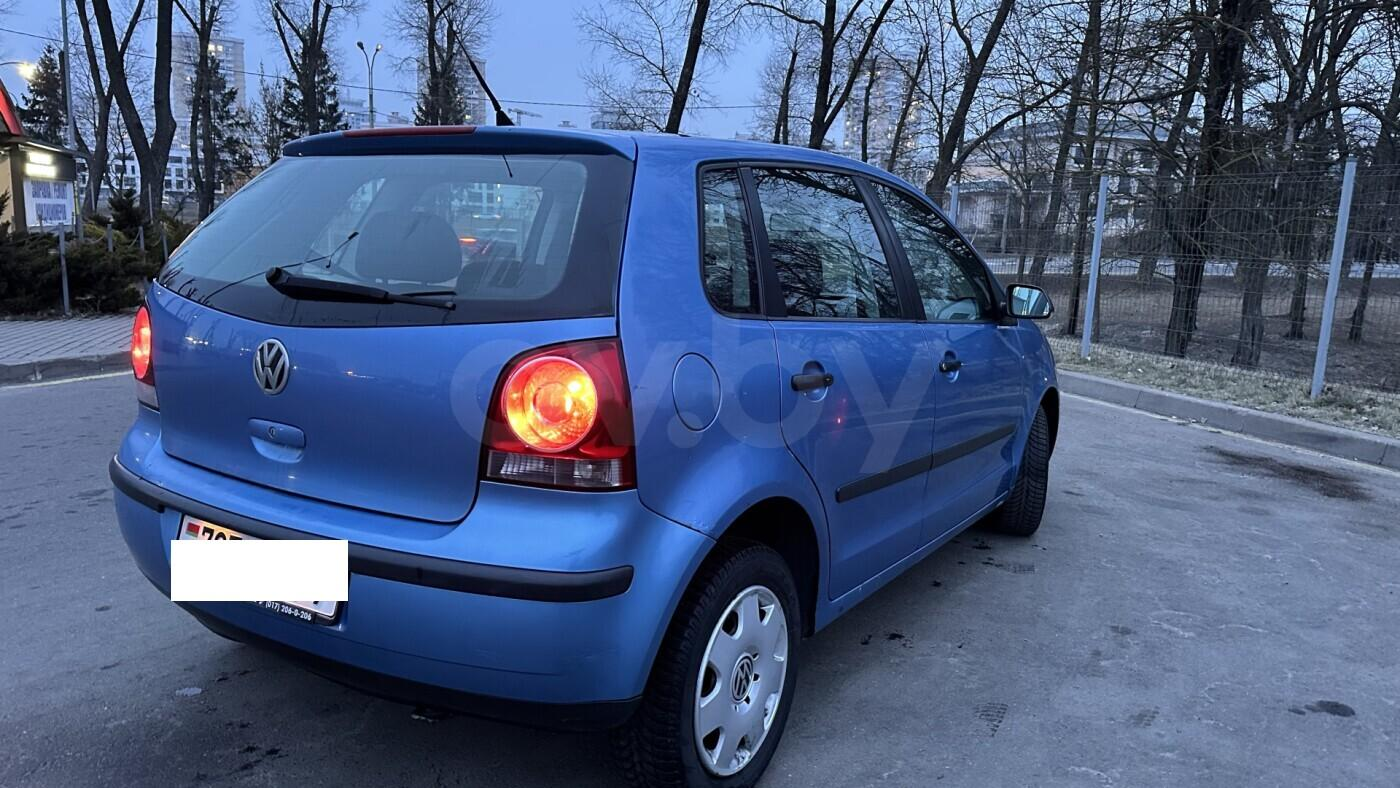Polo_2005-2009: (94, 116, 1085, 778)
